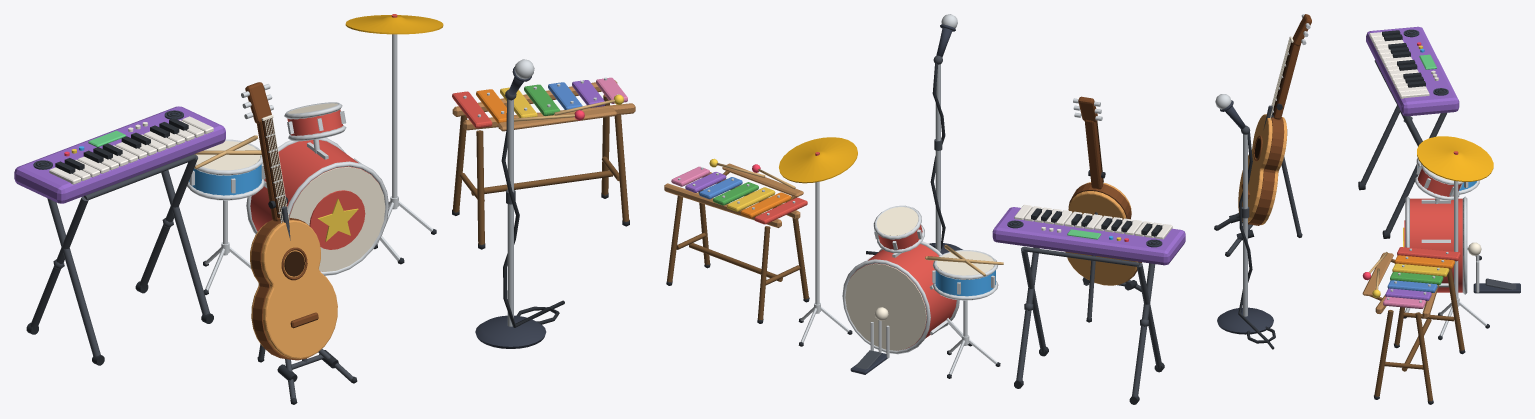
File: banda.glb
3 views of the same model, side by side, from view 1: azimuth 30°, elevation 25°; view 2: azimuth 150°, elevation 25°; view 3: azimuth 270°, elevation 25° (orthographic). The views are drawn at different scales.
Parts seen in each view (by area): view 1: bateria, teclado, violao, xilofone, microfone; view 2: bateria, teclado, xilofone, violao, microfone; view 3: bateria, teclado, xilofone, violao, microfone.
Boxes of the visible parts, x1,y1,x2,y2 form: bateria: (187,14,443,295); teclado: (14,106,225,365); violao: (241,82,357,404); xilofone: (452,77,635,249); microfone: (475,59,564,348); bateria: (779,137,1003,378); teclado: (992,204,1185,404); xilofone: (664,158,809,323); violao: (1065,96,1141,322); microfone: (866,14,962,254); bateria: (1403,136,1520,340); teclado: (1358,26,1459,238); xilofone: (1362,247,1465,404); violao: (1214,14,1311,256); microfone: (1215,94,1275,349).
Size of the model in its own units: 2.85 by 1.28 by 1.56.
